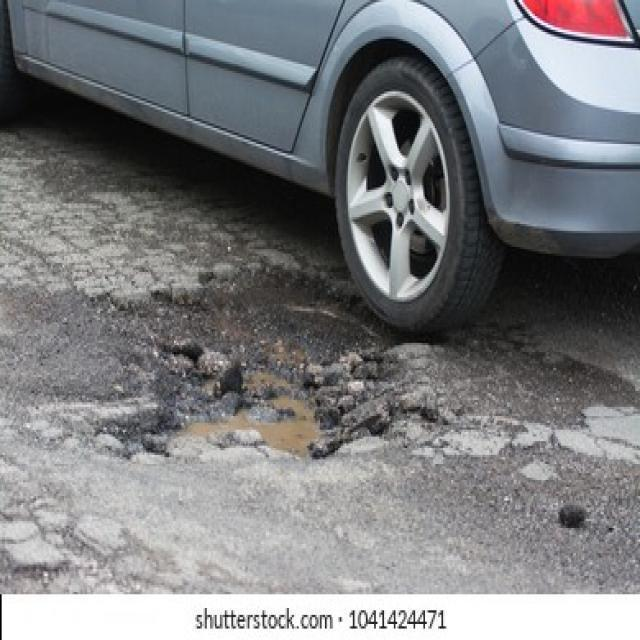Buraco: (80, 252, 460, 470)
